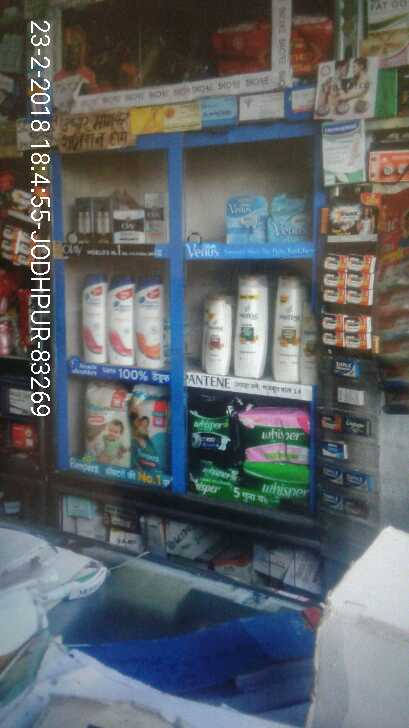venus: (267, 192, 310, 242), (226, 196, 267, 242)
